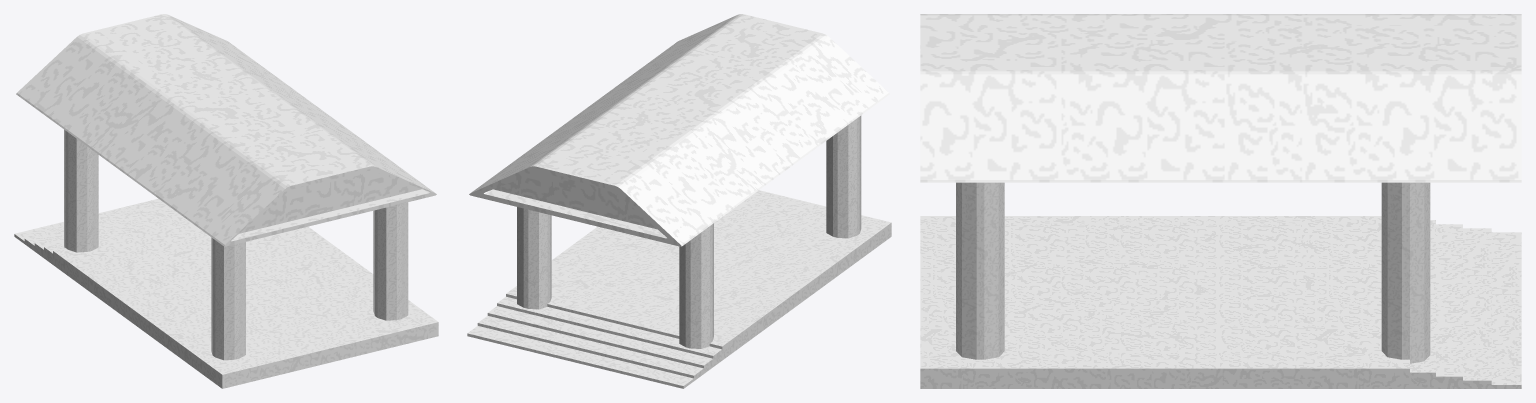
Rendered from Temple.fbx.
3 renders of one model, left to right at view 1: azimuth 30°, elevation 25°; view 2: azimuth 150°, elevation 25°; view 3: azimuth 270°, elevation 25°, orthographic. The views are drawn at different scales.
Parts seen in each view (by area): view 1: Temple Roof, Platform, Pillar.003, Pillar.002, Pillar; view 2: Temple Roof, Platform, Pillar.002, Pillar, Pillar.001; view 3: Temple Roof, Platform, Pillar.001, Pillar.003.
Part boxes in pixels (x1=…): Temple Roof: x1=16, y1=14, x2=436, y2=246; Platform: x1=14, y1=198, x2=438, y2=388; Pillar.003: x1=373, y1=202, x2=408, y2=320; Pillar.002: x1=211, y1=237, x2=245, y2=360; Pillar: x1=64, y1=129, x2=98, y2=252; Temple Roof: x1=469, y1=14, x2=889, y2=246; Platform: x1=467, y1=190, x2=891, y2=388; Pillar.002: x1=826, y1=115, x2=861, y2=238; Pillar: x1=679, y1=223, x2=713, y2=348; Pillar.001: x1=517, y1=207, x2=551, y2=309; Temple Roof: x1=920, y1=14, x2=1521, y2=182; Platform: x1=920, y1=216, x2=1521, y2=388; Pillar.001: x1=1381, y1=182, x2=1430, y2=363; Pillar.003: x1=956, y1=182, x2=1004, y2=359.
Bounding box in the file's own units: 24 × 40 × 19.77.
1 material, 1 textured.
